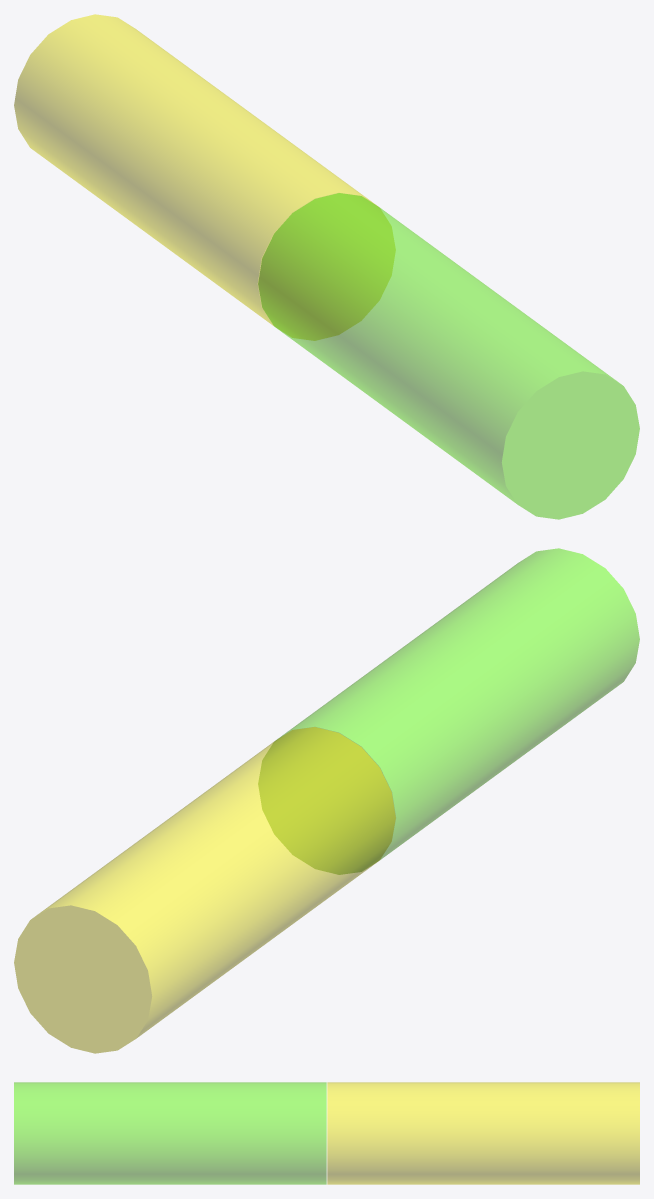
The model's file is green_yellow_cylinder.glb.
The picture shows the model from 3 angles, top to bottom: view 1: azimuth 30°, elevation 25°; view 2: azimuth 150°, elevation 25°; view 3: azimuth 270°, elevation 25°; orthographic projection. The views are drawn at different scales.
Visible parts, largest first — view 1: yelow-green cylinder; view 2: yelow-green cylinder; view 3: yelow-green cylinder.
Part boxes in pixels (x1,y1,x2,y2): yelow-green cylinder: (14,14,639,519); yelow-green cylinder: (14,548,639,1053); yelow-green cylinder: (14,1082,639,1184).
Bounding box in the file's own units: 0.00449 × 0.00442 × 0.0274.
